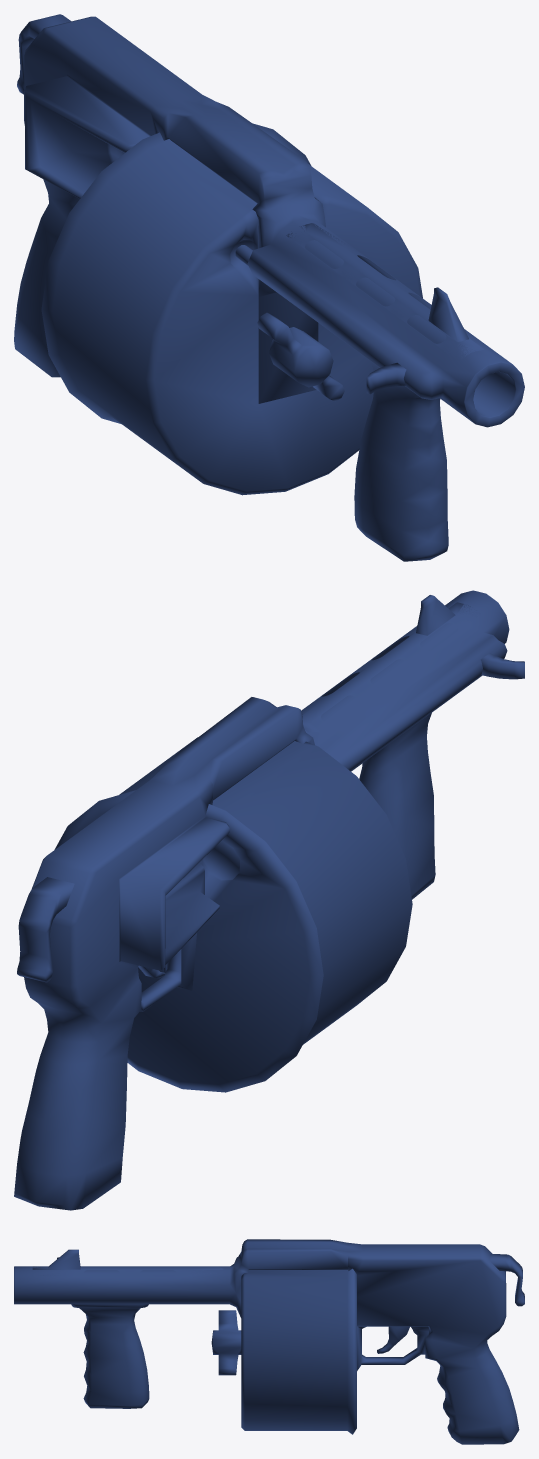
Rendered from Striker_L0.fbx.
The picture shows the model from 3 angles, top to bottom: view 1: azimuth 30°, elevation 25°; view 2: azimuth 150°, elevation 25°; view 3: azimuth 270°, elevation 25°; orthographic projection. The views are drawn at different scales.
Parts seen in each view (by area): view 1: Striker, Clip; view 2: Striker, Clip; view 3: Striker, Clip.
Boxes of the visible parts, x1=… form: Striker: x1=14, y1=14, x2=524, y2=561; Clip: x1=41, y1=123, x2=422, y2=495; Striker: x1=14, y1=590, x2=524, y2=1210; Clip: x1=54, y1=737, x2=412, y2=1092; Striker: x1=14, y1=1239, x2=524, y2=1444; Clip: x1=241, y1=1268, x2=361, y2=1434.
Bounding box in the file's own units: 0.1724 × 0.1938 × 0.4743.
